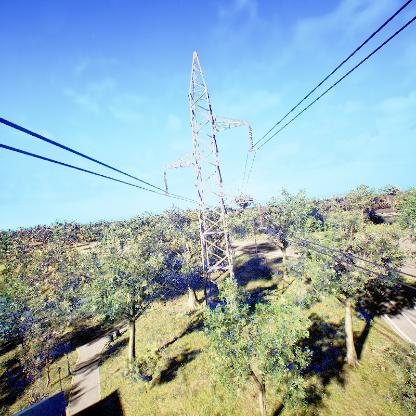tower: (159, 50, 259, 336)
